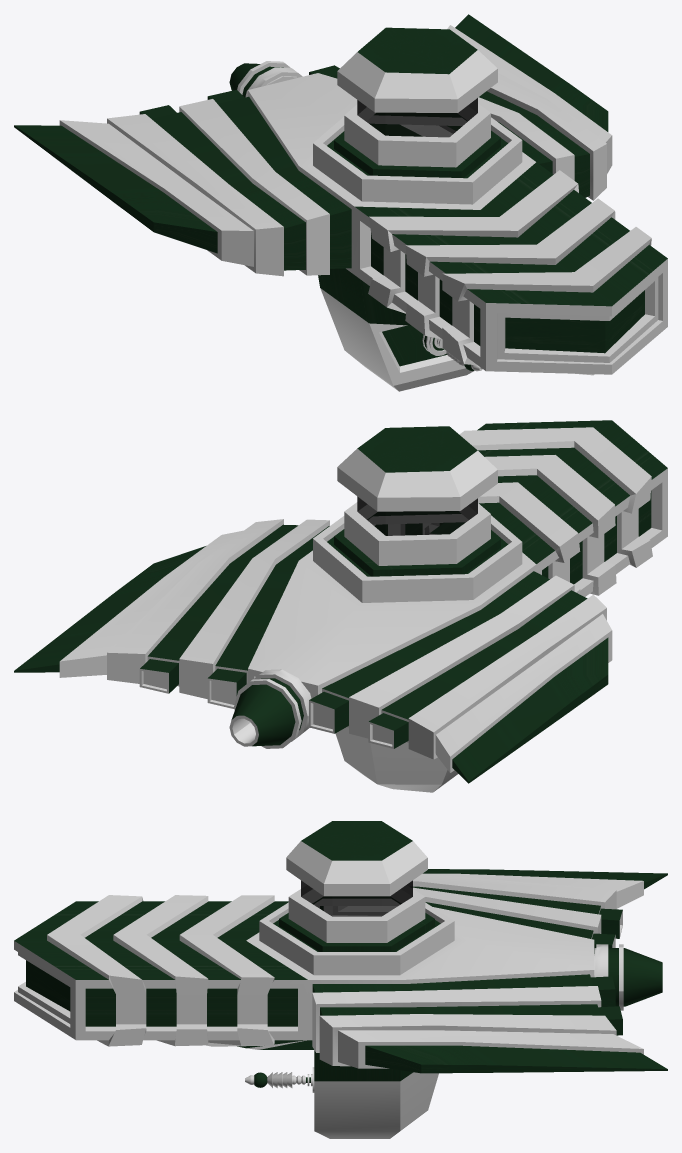
File: DCE.fbx
3 renders of one model, top to bottom at view 1: azimuth 30°, elevation 25°; view 2: azimuth 150°, elevation 25°; view 3: azimuth 270°, elevation 25°, orthographic. The views are drawn at different scales.
Visible parts, largest first — view 1: DCE; view 2: DCE; view 3: DCE.
Part boxes in pixels (<box>): DCE: <box>14,14,667,391</box>; DCE: <box>14,420,667,792</box>; DCE: <box>14,821,667,1138</box>.
Bounding box in the file's own units: 6.01 × 4.06 × 8.49.
